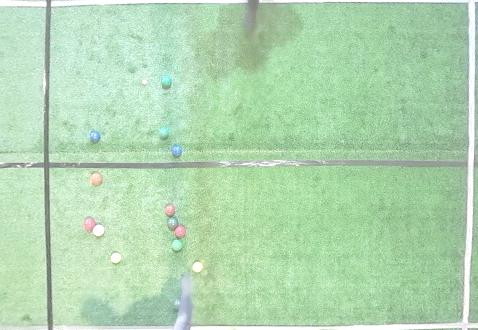blue: (90, 131, 100, 142), (172, 145, 182, 156)
green: (167, 217, 179, 230), (171, 239, 183, 252), (159, 127, 170, 139), (161, 77, 171, 88), (173, 297, 181, 310)
red: (84, 218, 96, 231), (91, 172, 103, 184), (175, 225, 186, 238), (93, 225, 104, 236), (165, 205, 175, 216)
vline: (1, 1, 54, 329), (459, 1, 477, 329)
white: (142, 80, 147, 85)
yellow: (111, 252, 122, 263), (192, 261, 203, 272)
